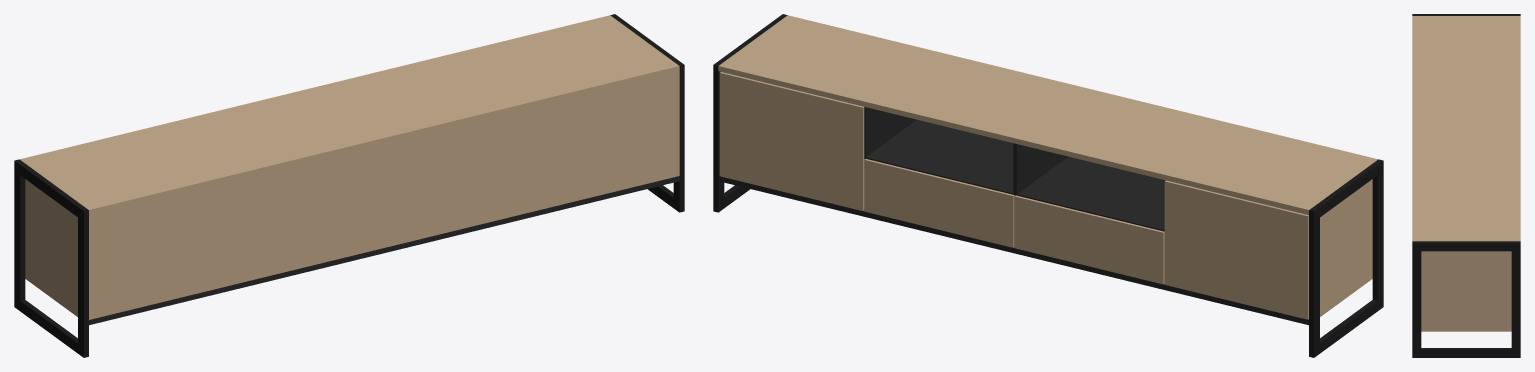
Rendered from tv-bench.glb.
The picture shows the model from 3 angles, left to right: view 1: azimuth 30°, elevation 25°; view 2: azimuth 150°, elevation 25°; view 3: azimuth 270°, elevation 25°; orthographic projection. The views are drawn at different scales.
Bounding box in the file's own units: 2.4 × 0.56 × 0.48.
